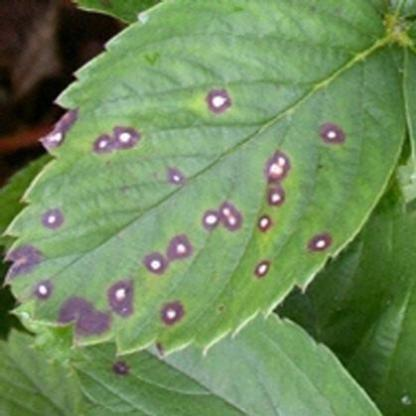Strawberry_Leaf_Spot: (0, 0, 409, 360), (66, 310, 383, 415)
